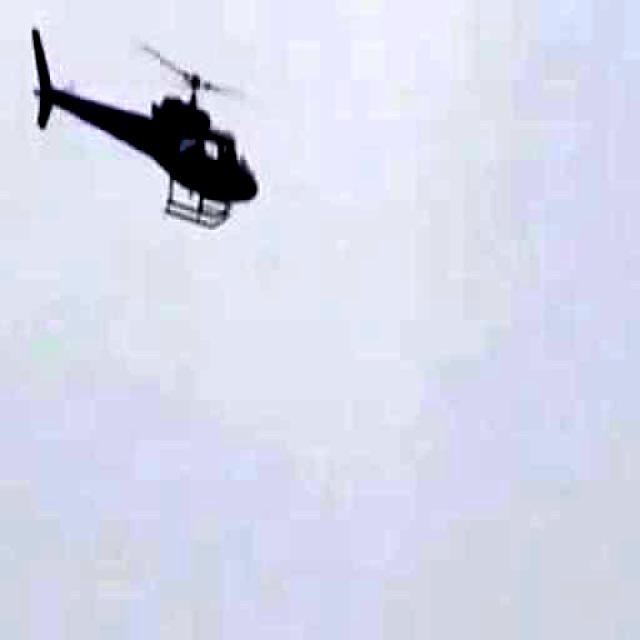drone: (14, 16, 266, 250)
